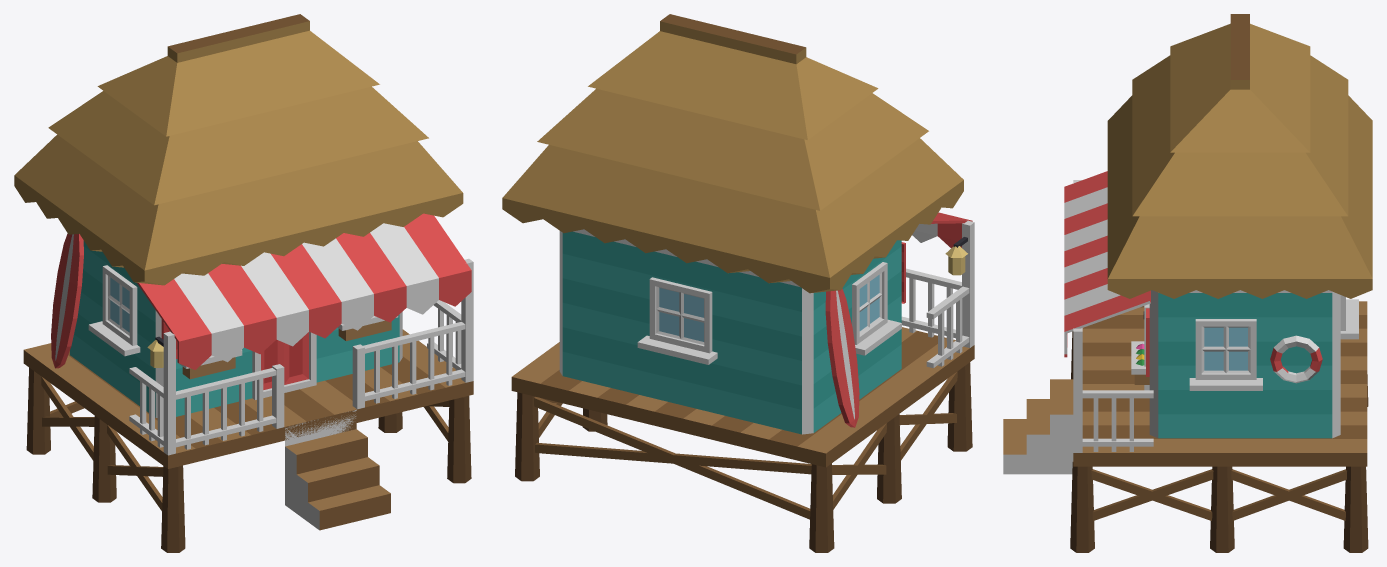
The model's file is beach-house-1.glb.
3 views of the same model, side by side, from view 1: azimuth 30°, elevation 25°; view 2: azimuth 150°, elevation 25°; view 3: azimuth 270°, elevation 25° (orthographic). The views are drawn at different scales.
Parts seen in each view (by area): view 1: BeachHouse1; view 2: BeachHouse1; view 3: BeachHouse1.
Boxes of the visible parts, x1,y1,x2,y2 form: BeachHouse1: (14, 14, 473, 552); BeachHouse1: (502, 14, 974, 552); BeachHouse1: (1003, 14, 1372, 552).
Bounding box in the file's own units: 4.9 × 6.22 × 4.84.
